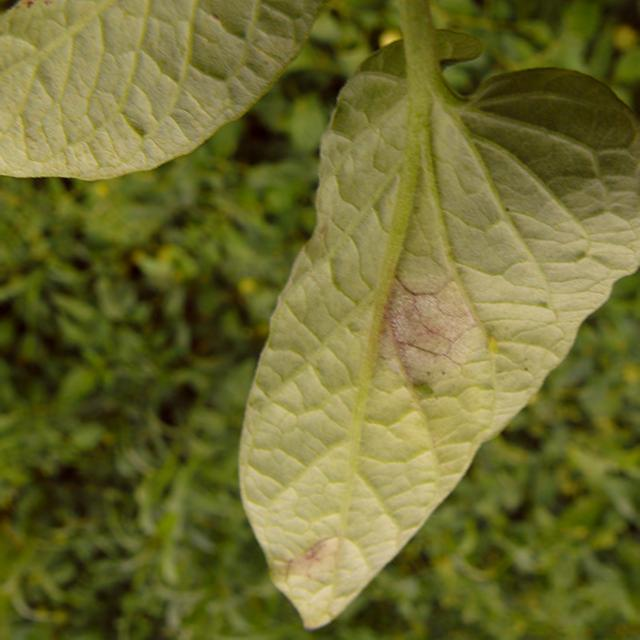Tomato leaf late blight: (227, 20, 640, 640)
